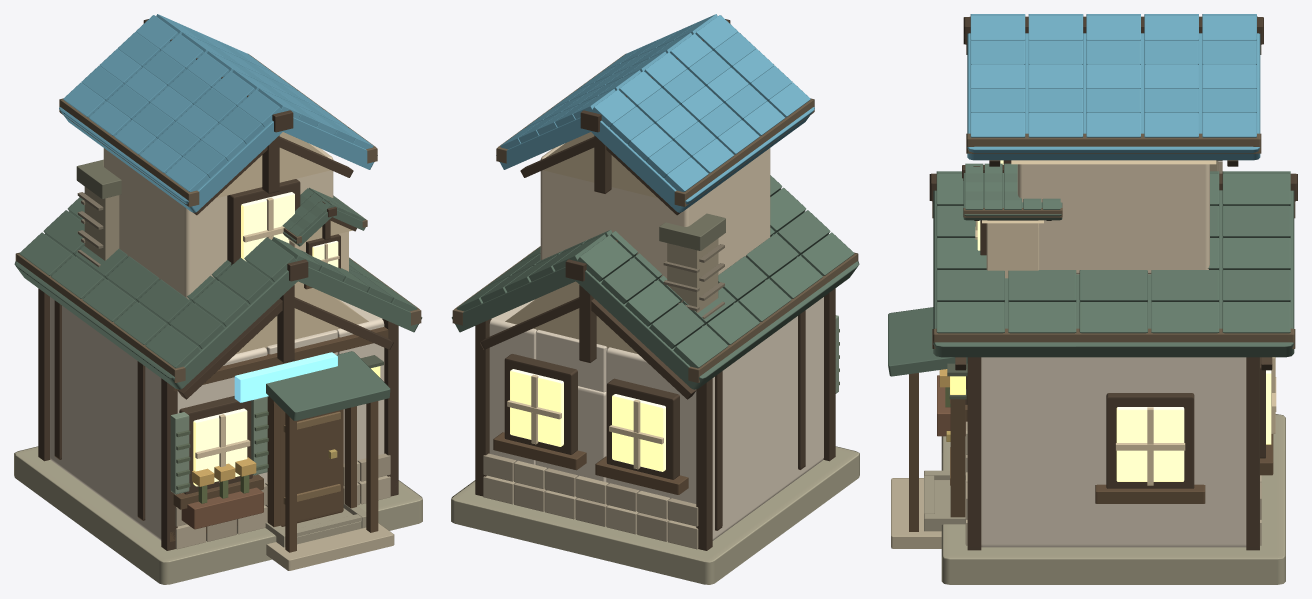
The model's file is workshop-1-1.glb.
3 views of the same model, side by side, from view 1: azimuth 30°, elevation 25°; view 2: azimuth 150°, elevation 25°; view 3: azimuth 270°, elevation 25° (orthographic). The views are drawn at different scales.
Parts seen in each view (by area): view 1: workshop-1-1, door-hinge; view 2: workshop-1-1; view 3: workshop-1-1.
Boxes of the visible parts, x1,y1,x2,y2 form: workshop-1-1: [14, 14, 422, 584]; door-hinge: [280, 407, 343, 526]; workshop-1-1: [451, 14, 859, 584]; workshop-1-1: [888, 14, 1297, 584].
Bounding box in the file's own units: 1.88 × 3 × 2.24.
